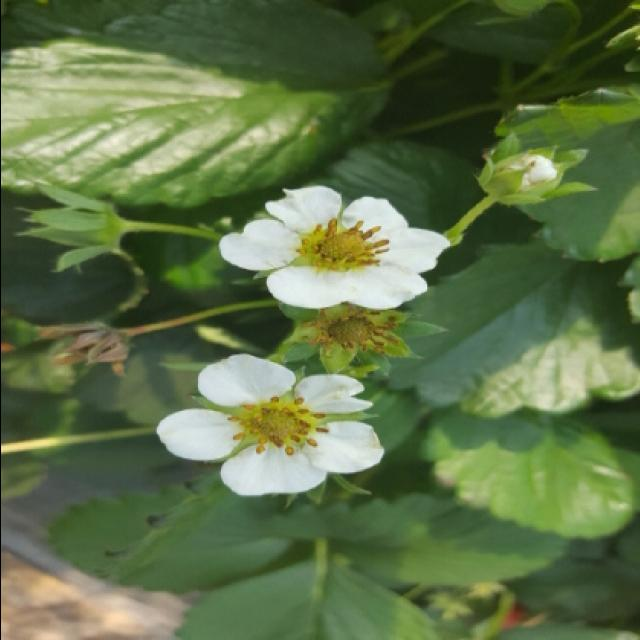Blossom Blight: (222, 391, 331, 460), (290, 214, 394, 275), (311, 307, 400, 357)
